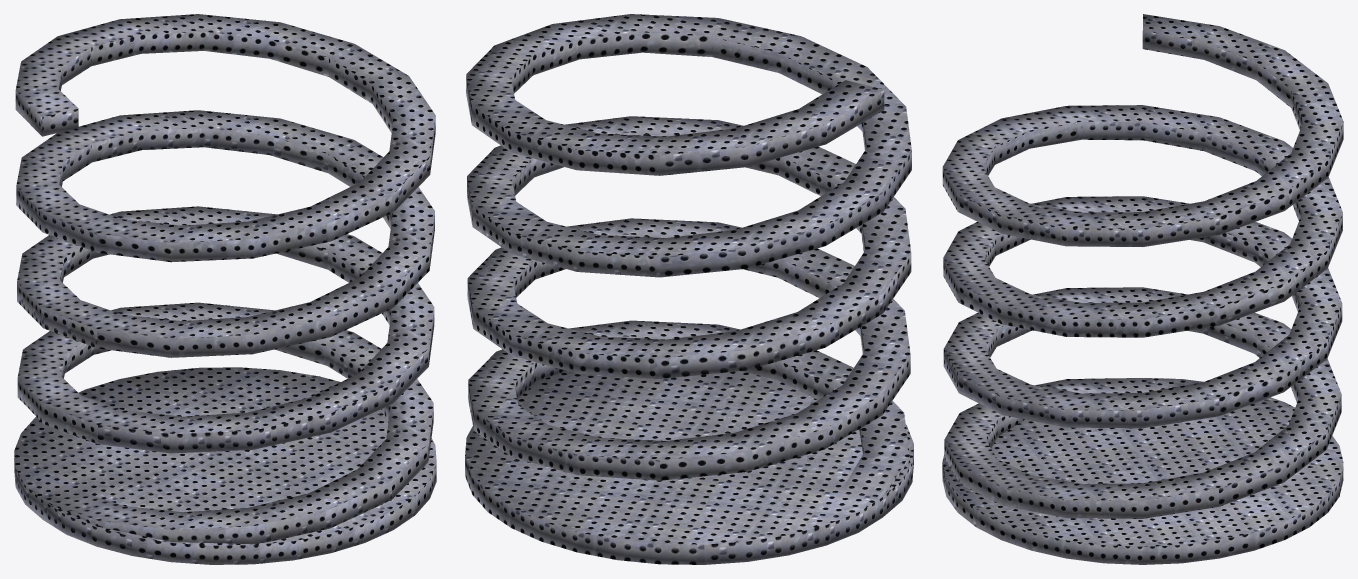
File: spring.obj
The picture shows the model from 3 angles, left to right: view 1: azimuth 30°, elevation 25°; view 2: azimuth 150°, elevation 25°; view 3: azimuth 270°, elevation 25°; orthographic projection. The views are drawn at different scales.
Parts seen in each view (by area): view 1: Circle_Circle.001_Material_metal004.jpg; view 2: Circle_Circle.001_Material_metal004.jpg; view 3: Circle_Circle.001_Material_metal004.jpg.
Part boxes in pixels (box(x1,y1,x2,y2)): Circle_Circle.001_Material_metal004.jpg: box(14, 14, 436, 564); Circle_Circle.001_Material_metal004.jpg: box(465, 14, 913, 564); Circle_Circle.001_Material_metal004.jpg: box(942, 14, 1343, 564).
Bounding box in the file's own units: 20.02 × 21 × 20.01.
1 material, 1 textured.
